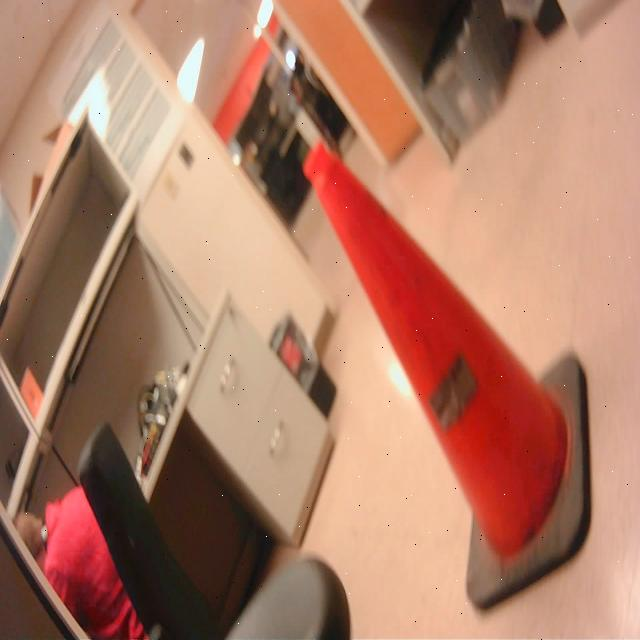traffic cone: (299, 128, 602, 615)
